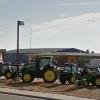Tractor: (19, 52, 66, 92)
